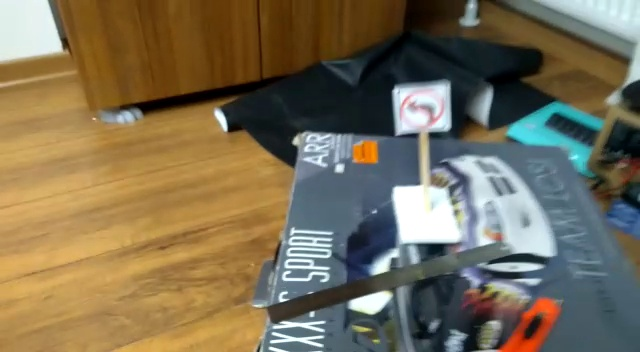sola_donulmez: (399, 87, 447, 133)
